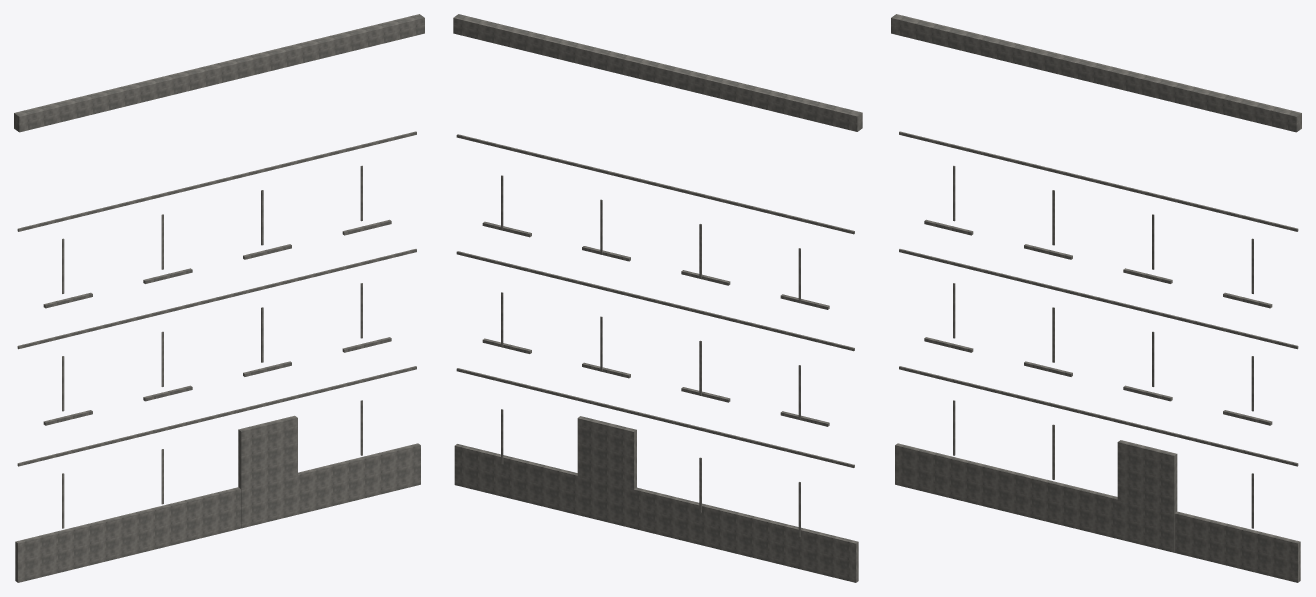
Rendered from Street_BlockL6_Trim.obj.
3 renders of one model, left to right at view 1: azimuth 30°, elevation 25°; view 2: azimuth 150°, elevation 25°; view 3: azimuth 330°, elevation 25°, orthographic.
Size of the model in its own units: 11.4 by 12.58 by 0.485.
1 material, 1 textured.
